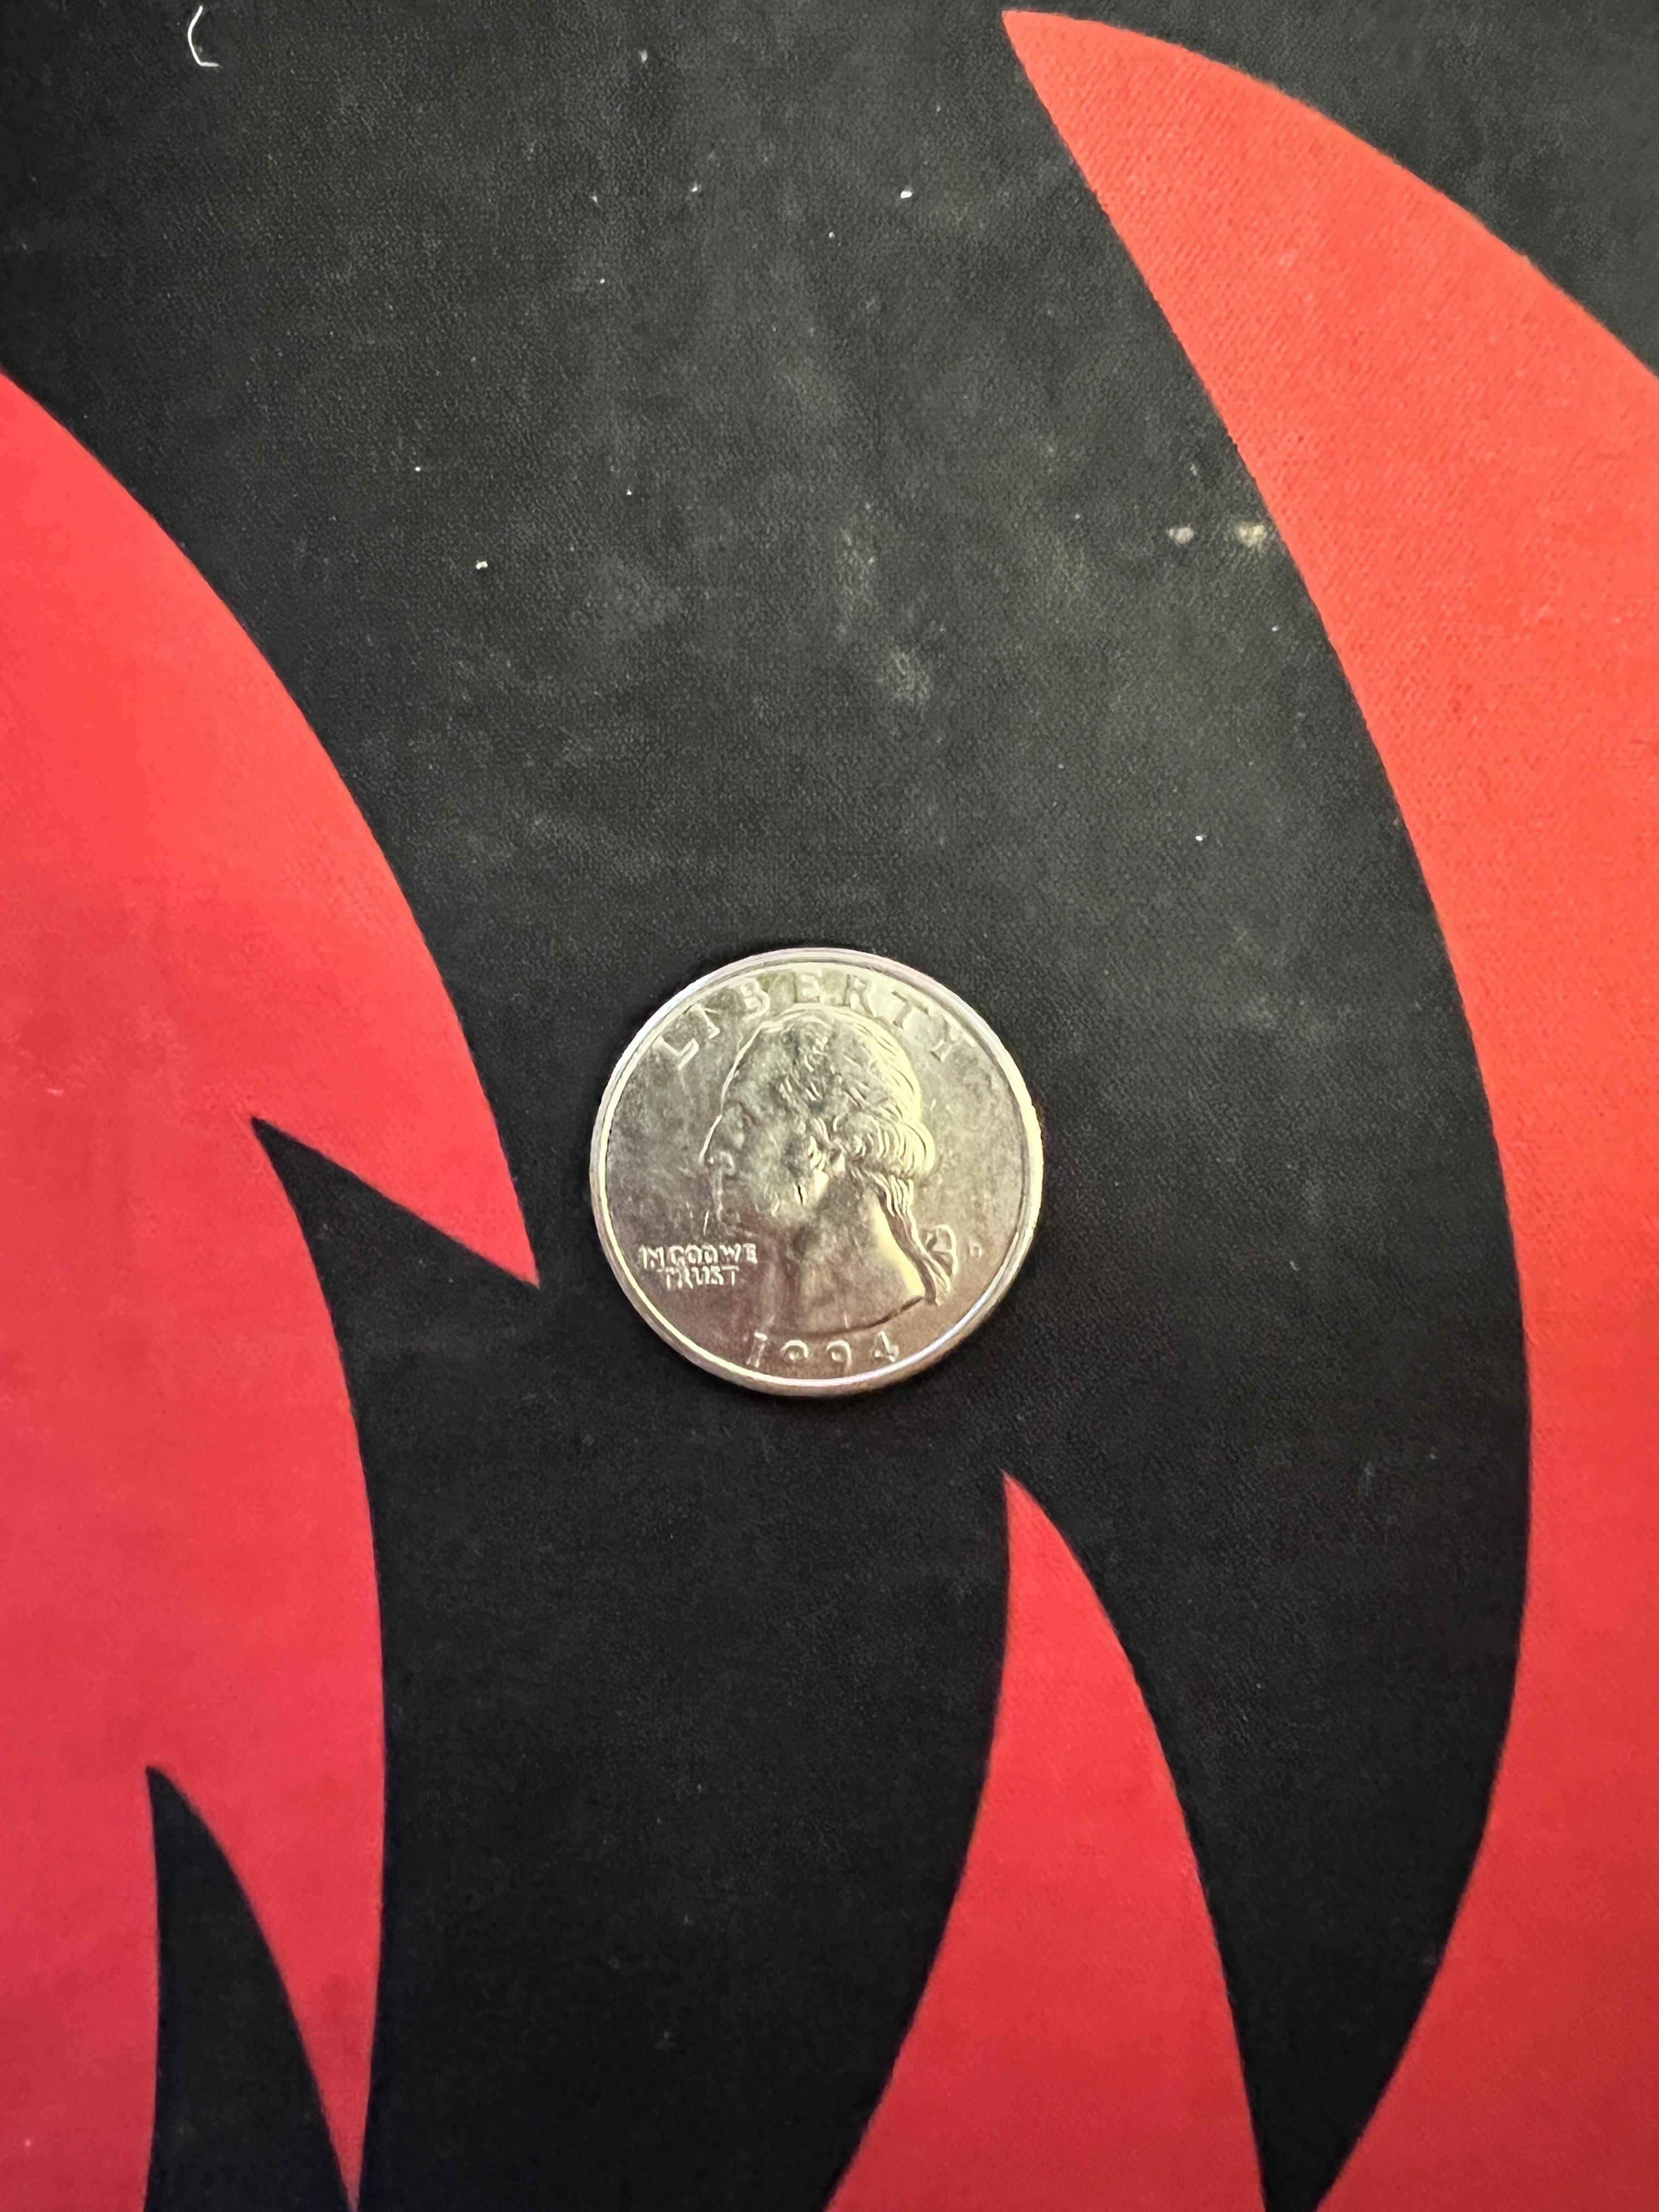Quarter: (575, 937, 1065, 1409)
